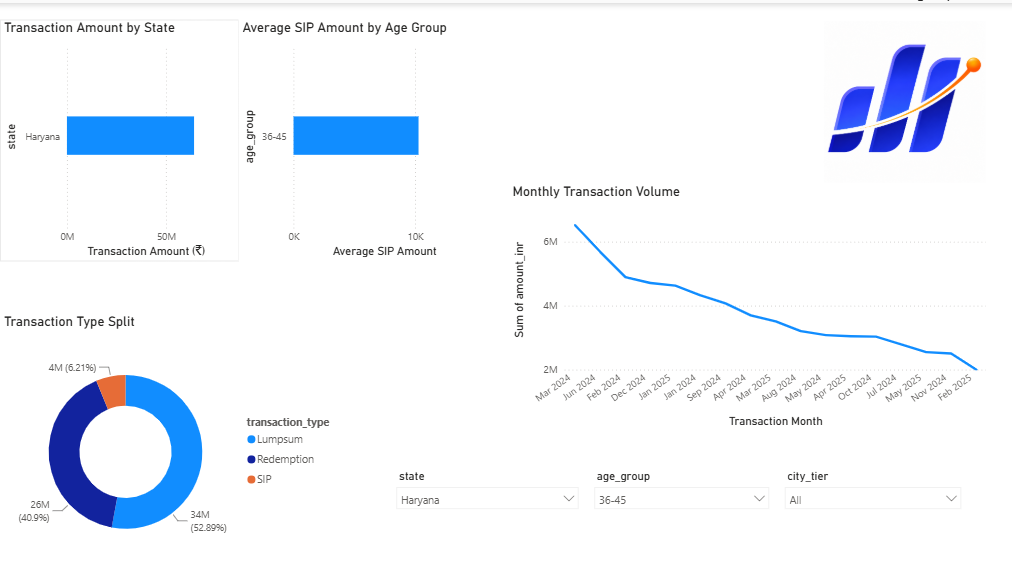

The dashboard page shown, as its layout file describes it:
{"tool":"powerbi","page":{"name":"Investor Analytics","canvas":[1280,720],"ordinal":2},"visuals":[{"type":"clusteredBarChart","title":"Transaction Amount by State","fields":{"Category":["08_investor_transactions_cleaned.state"],"Y":["Sum(08_investor_transactions_cleaned.amount_inr)"]},"box":[0,20.8,300.5,304.3],"z":0},{"type":"donutChart","title":"Transaction Type Split","fields":{"Category":["08_investor_transactions_cleaned.transaction_type"],"Y":["Sum(08_investor_transactions_cleaned.amount_inr)"]},"box":[0,391.2,434.6,328.8],"z":1000},{"type":"clusteredBarChart","title":"Average SIP Amount by Age Group","fields":{"Category":["08_investor_transactions_cleaned.age_group"],"Y":["01_fund_master_cleaned.Average SIP Amount"]},"box":[300.5,20.8,313.7,304.3],"z":2000},{"type":"lineChart","title":"Monthly Transaction Volume","fields":{"Y":["Sum(08_investor_transactions_cleaned.amount_inr)"],"Category":["08_investor_transactions_cleaned.Transaction Month"]},"box":[640.6,226.8,606.6,311.8],"z":3000},{"type":"slicer","fields":{"Values":["08_investor_transactions_cleaned.state"]},"box":[489.5,582.1,249.5,124.7],"z":4000},{"type":"slicer","fields":{"Values":["08_investor_transactions_cleaned.age_group"]},"box":[738.9,582.1,240,124.7],"z":5000},{"type":"slicer","fields":{"Values":["08_investor_transactions_cleaned.city_tier"]},"box":[978.9,582.1,241.9,122.8],"z":6000},{"type":"image","box":[1014.8,22.7,249.5,204.1],"z":6001}]}

Visuals, with their boxes in screenshot pixels (x1, y1, x2, y2), scaled from the page's 1280x720 canvas onto the 1012x574 screenshot:
"Transaction Amount by State" clusteredBarChart: [x1=0, y1=17, x2=238, y2=259]
"Transaction Type Split" donutChart: [x1=0, y1=312, x2=344, y2=573]
"Average SIP Amount by Age Group" clusteredBarChart: [x1=238, y1=17, x2=486, y2=259]
"Monthly Transaction Volume" lineChart: [x1=506, y1=181, x2=986, y2=429]
slicer - 08_investor_transactions_cleaned.state: [x1=387, y1=464, x2=584, y2=563]
slicer - 08_investor_transactions_cleaned.age_group: [x1=584, y1=464, x2=774, y2=563]
slicer - 08_investor_transactions_cleaned.city_tier: [x1=774, y1=464, x2=965, y2=562]
image: [x1=802, y1=18, x2=1000, y2=181]
